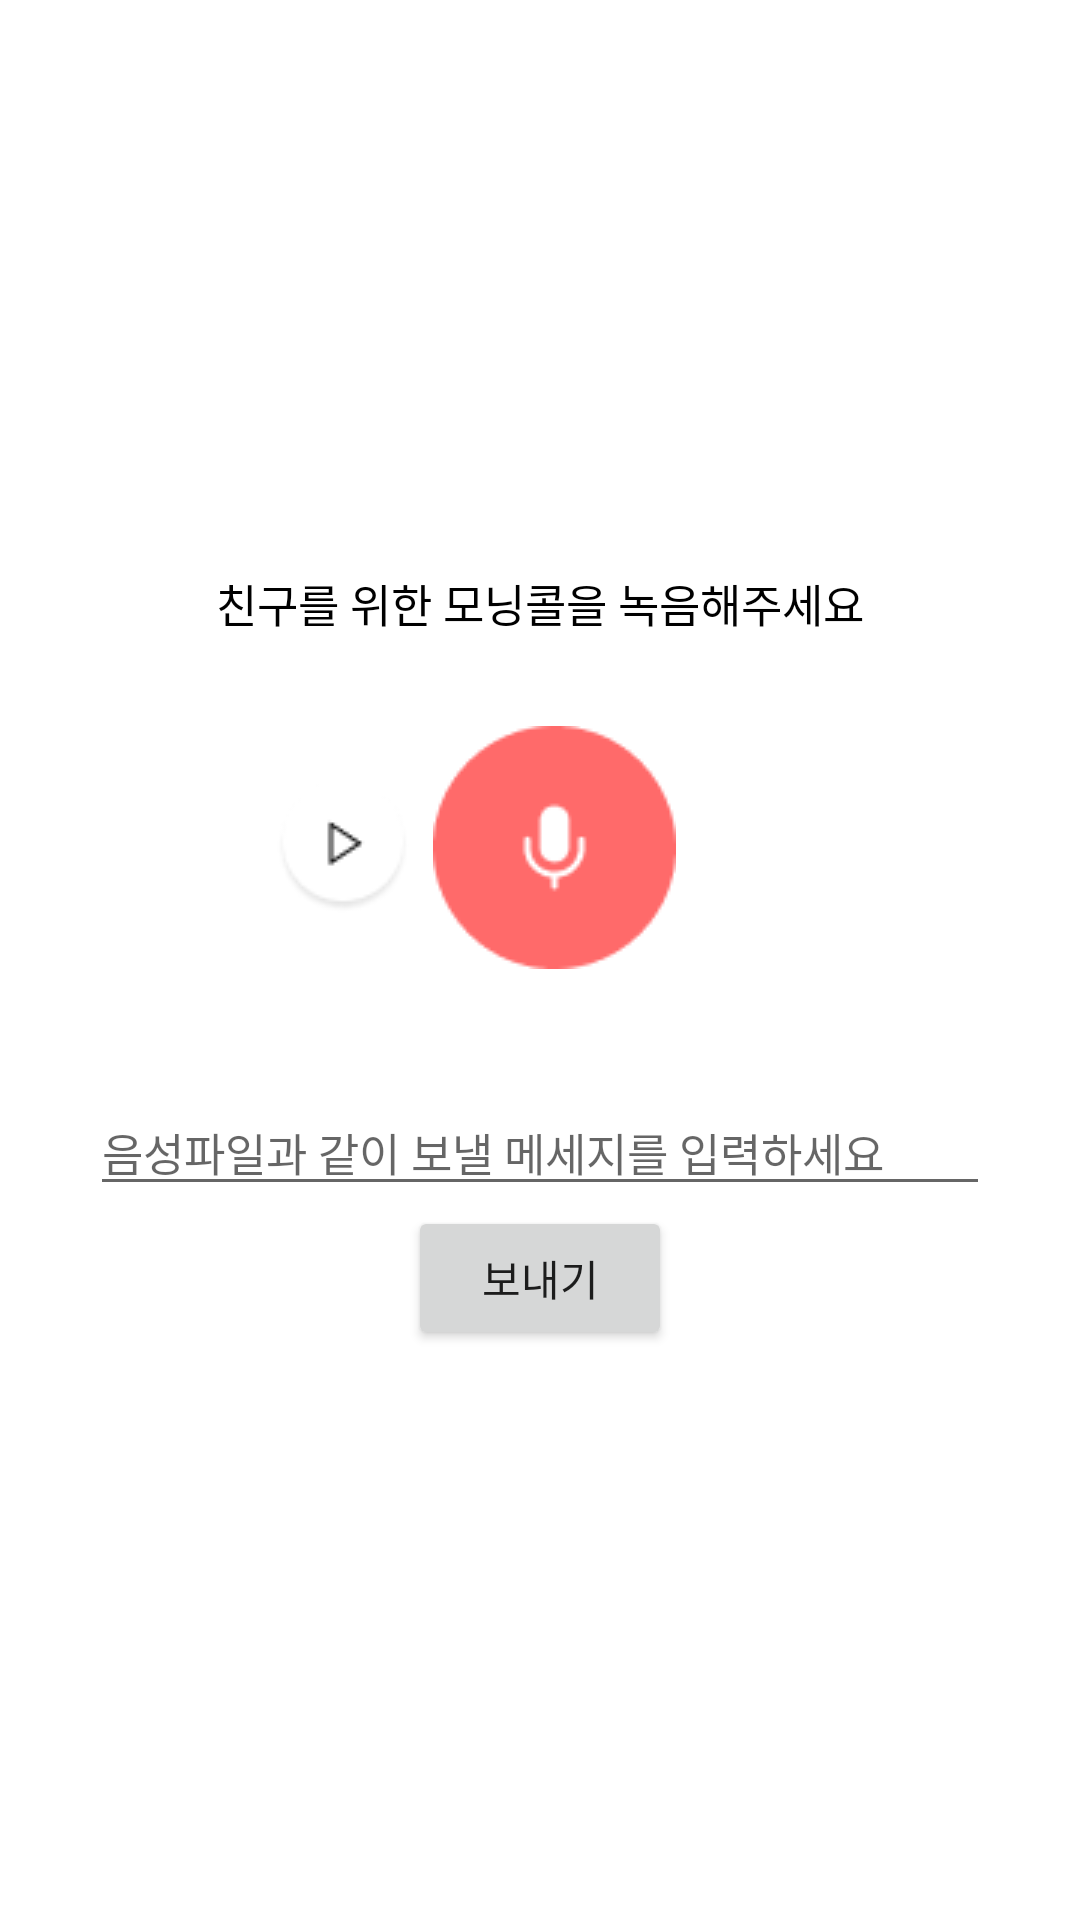

Where to tap for icons on this 1080x1920 app screen, as [x,y]:
playbutton: [344,862]
record: [554,847]
